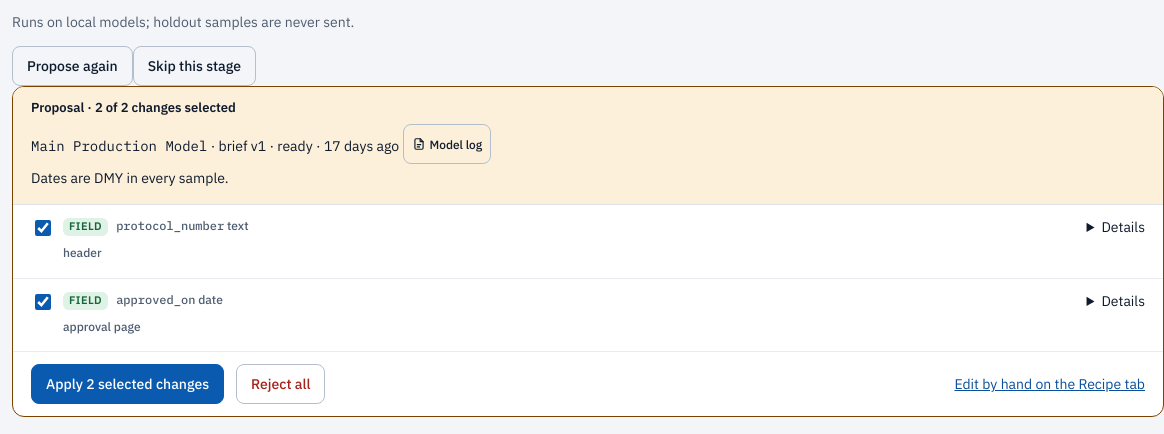
it: StagePanel › ignores a second click while a decision is pending
Click the button "Apply 2 selected changes": click(128, 384) 31,364 -> 224,404
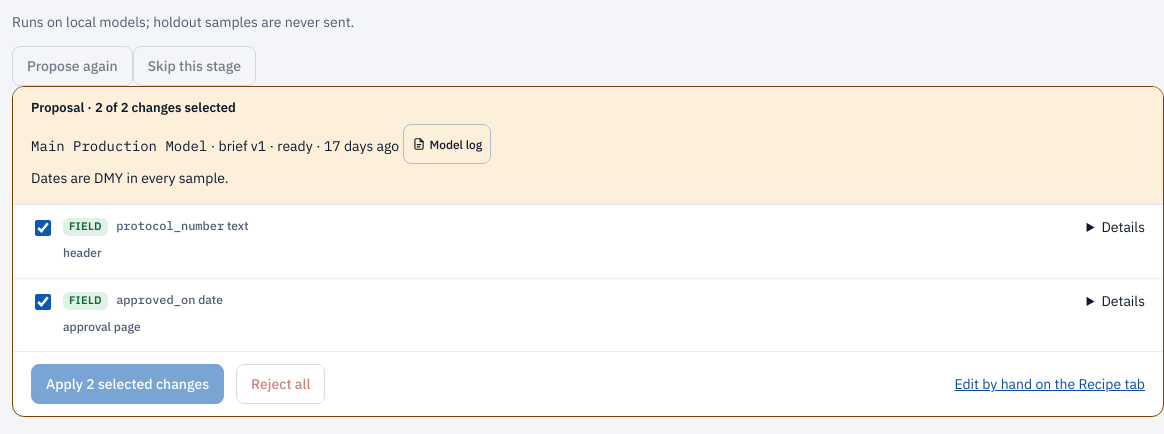
expect the button "Apply 2 selected changes" is disabled: met
expect the button "Reject all" is disabled: met, box 236,364 -> 325,404
expect the button "Skip this stage" is disabled: met, box 133,46 -> 256,86
Click the button "Apply 2 selected changes": click(128, 384) 31,364 -> 224,404
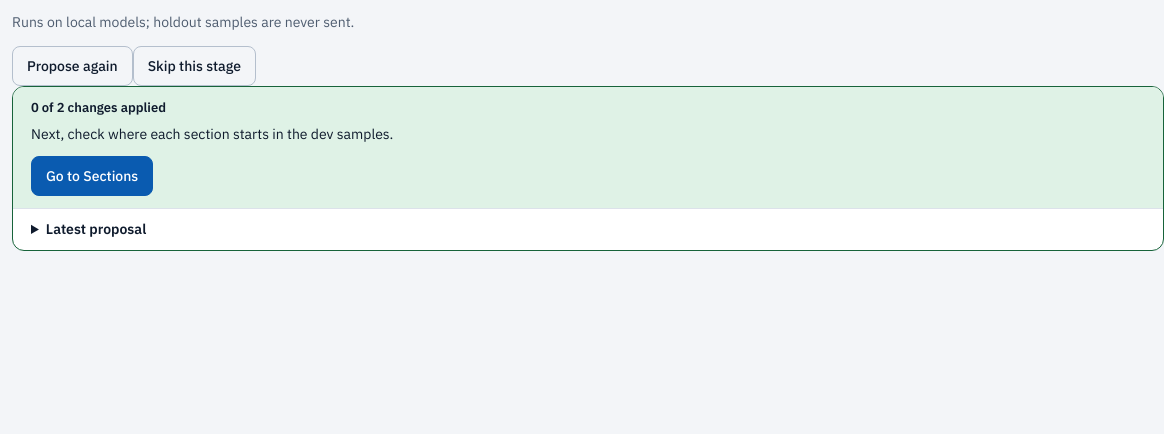
expect the button "Reject all" is gone: met
